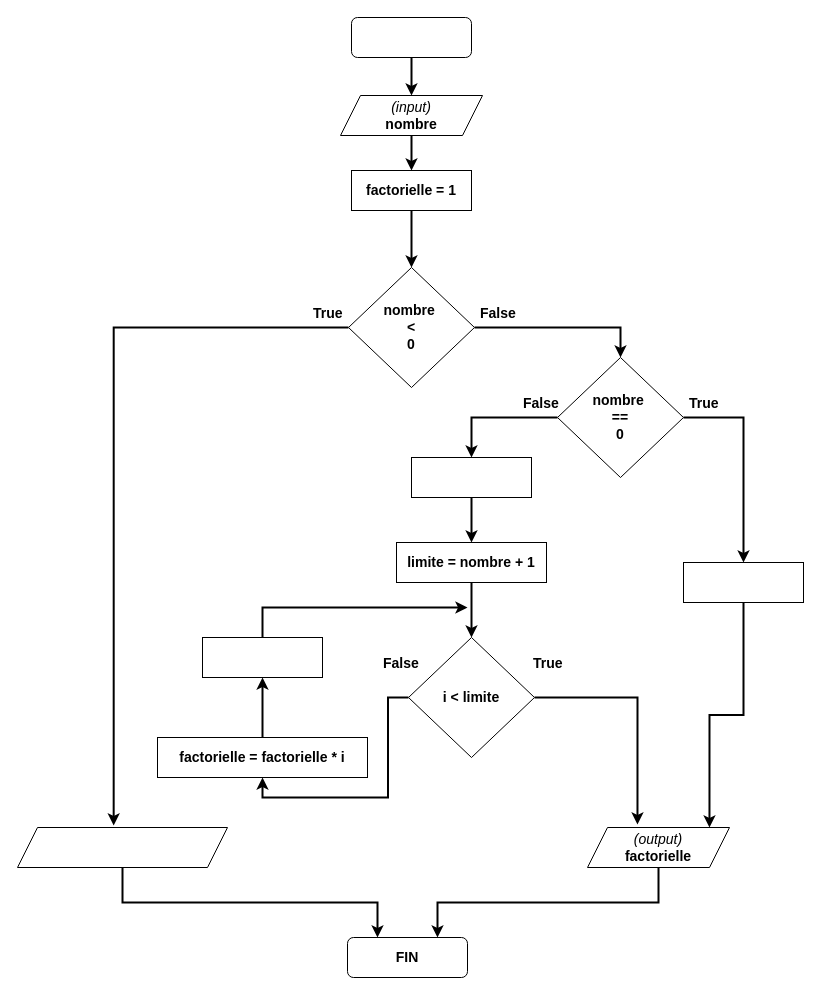
Some shapes in this 821 by 995 pixel diagram are drawn without their labels. The shapes that lost their labels are listed below. From the top down, each one's centre as x and y in pixels, then its label:
[411,37]: DEBUT
[471,477]: i = 1
[743,582]: factorielle = 0
[262,657]: i = i + 1
[122,847]: (output) nombre doit être positif
